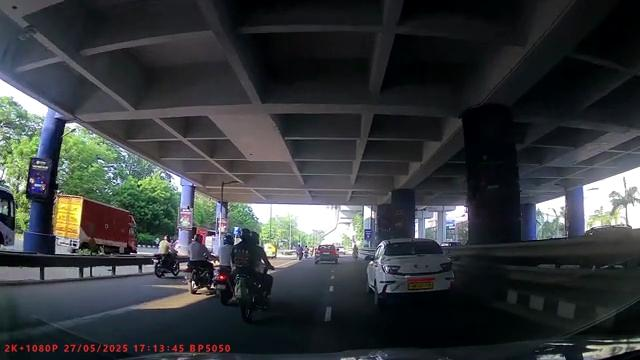motorcycle_with_helmet: (186, 231, 213, 295), (214, 231, 234, 303), (153, 234, 181, 280)
passenger_without_helmet: (233, 227, 273, 323)
